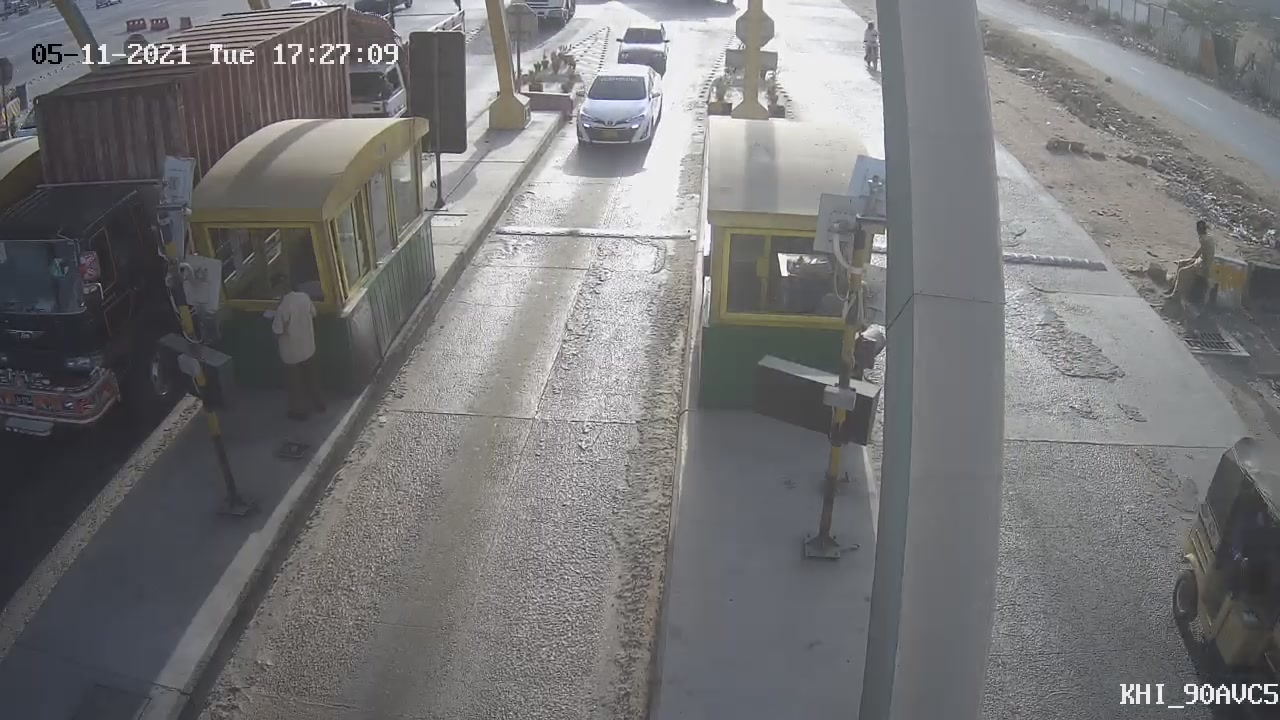F1: (559, 49, 675, 163)
